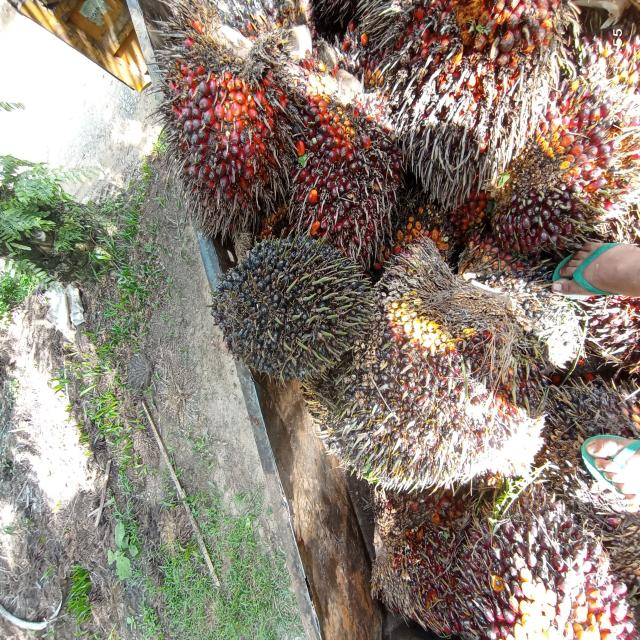fraksi 1: (326, 240, 538, 520)
fraksi 3: (478, 44, 634, 270), (202, 228, 384, 398), (145, 14, 286, 210), (277, 52, 397, 276)
fraksi 4: (364, 0, 570, 185)
